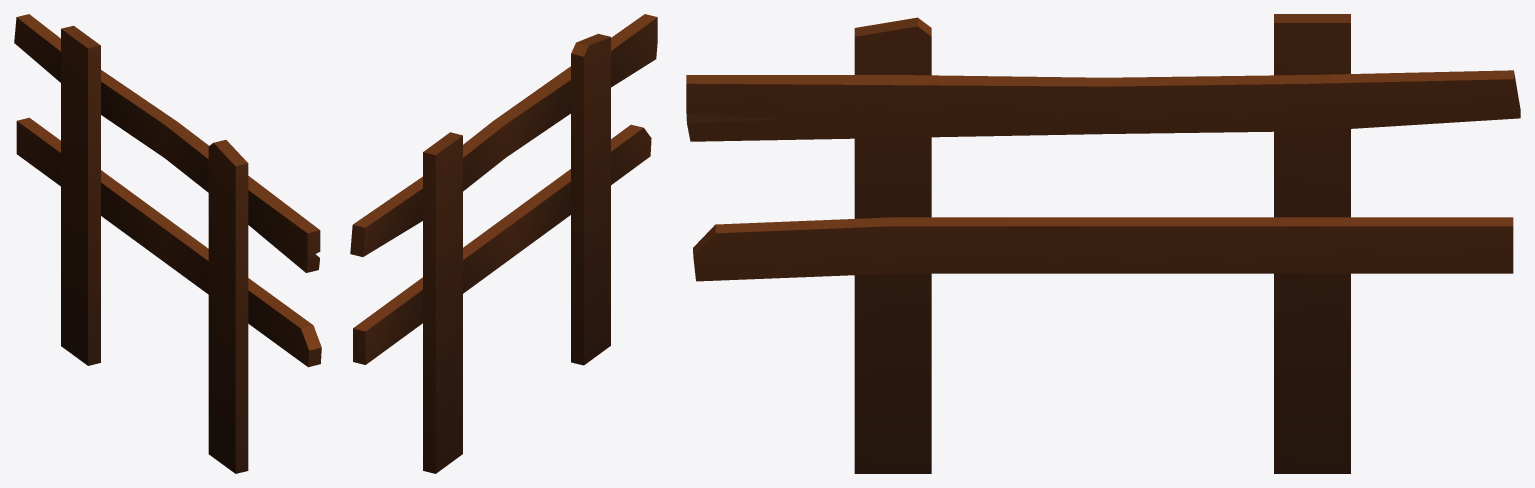
The model's file is Fence_2A.fbx.
3 renders of one model, left to right at view 1: azimuth 30°, elevation 25°; view 2: azimuth 150°, elevation 25°; view 3: azimuth 270°, elevation 25°, orthographic. The views are drawn at different scales.
Parts seen in each view (by area): view 1: Fence_2A; view 2: Fence_2A; view 3: Fence_2A.
Boxes of the visible parts, x1,y1,x2,y2 form: Fence_2A: (14, 14, 321, 473); Fence_2A: (350, 14, 657, 473); Fence_2A: (686, 14, 1520, 473).
Size of the model in its own units: 11.61 by 119 by 199.
